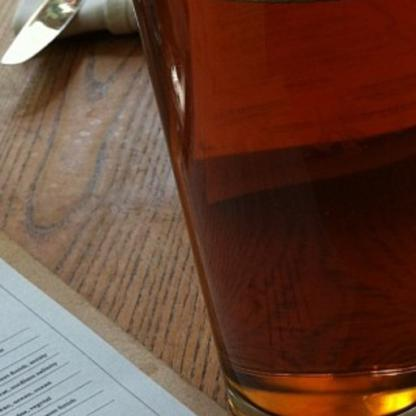knife: (0, 0, 117, 66)
